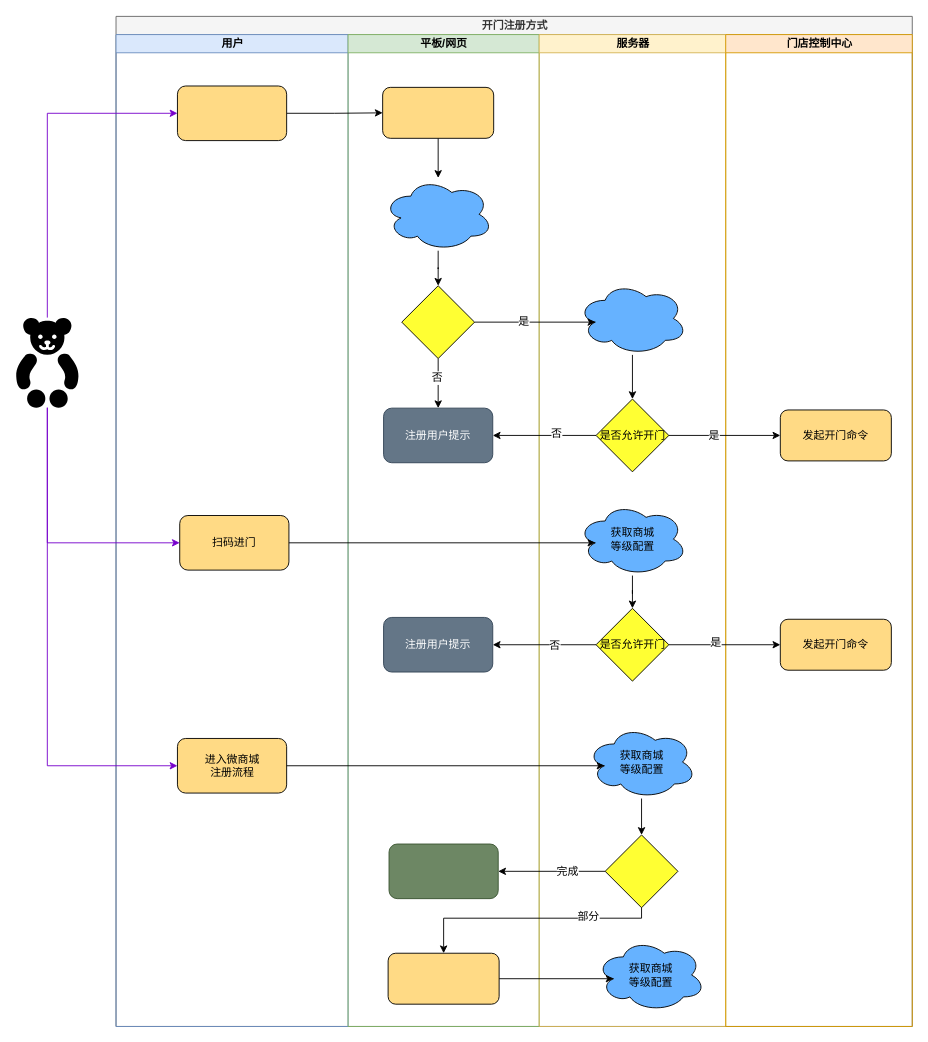
Some shapes in this 928 by 1042 pixel diagram are drawn without their labels. Here are the shapes that lost their labels. From the top down, the centre of each, then its label:
At (232,113): "刷脸进门".
At (438,112): "抓取人脸图片".
At (438,214): "百度人脸处理".
At (438,322): "百度云是否 存在用户".
At (632,318): "获取用户信息 是否开门".
At (443,871): "已注册成功".
At (641,871): "注册进度".
At (443,978): "手机或人脸注册".
